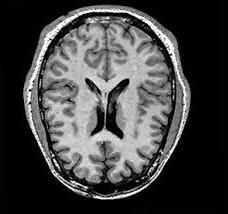Normal_Brain: (19, 1, 192, 214)
